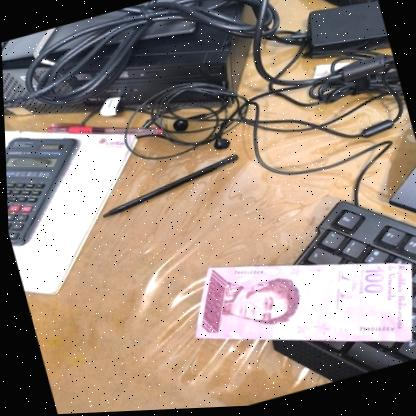one_hundred-front-vef: (175, 216, 416, 398)
